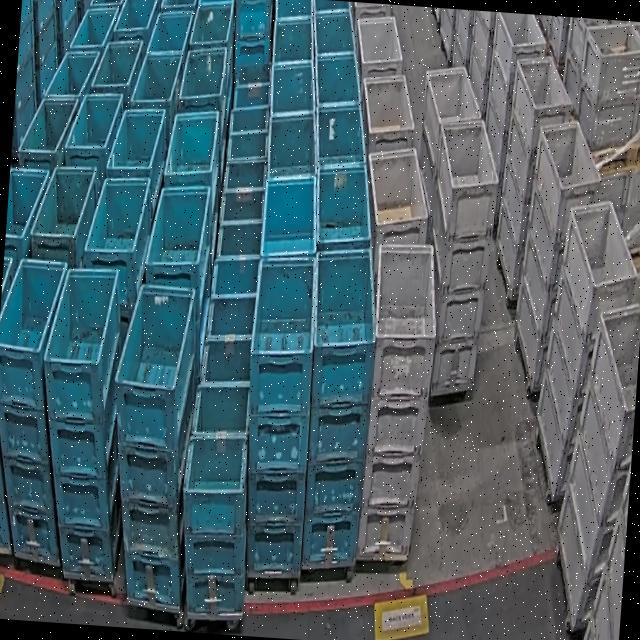4G: (357, 238, 442, 562), (419, 115, 502, 402)
B4: (27, 261, 139, 582), (100, 276, 204, 610), (235, 250, 322, 576), (294, 244, 381, 570), (0, 254, 79, 562)
B8: (174, 374, 260, 616)
